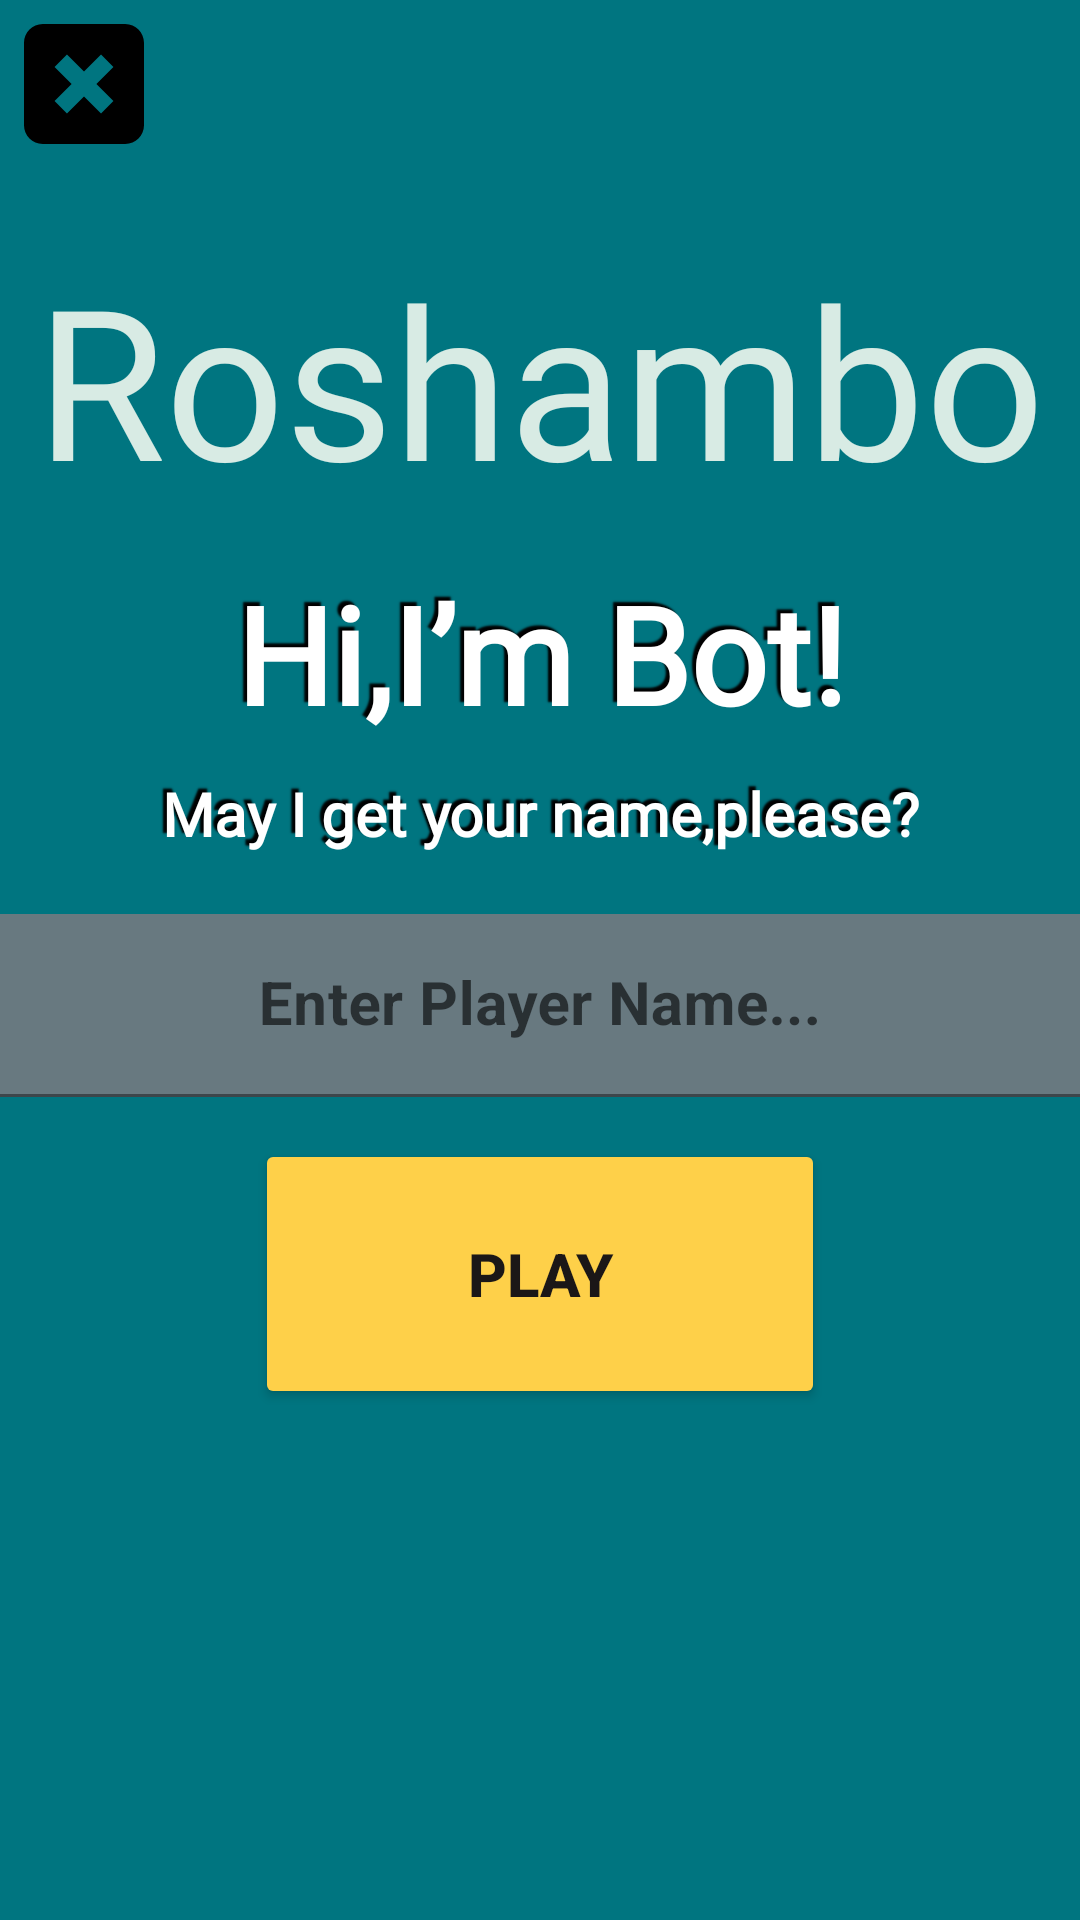

Icons on this 1080x1920 Android screen, each with the point to tap as (x=x, y=y):
croissit: (x=84, y=84)
